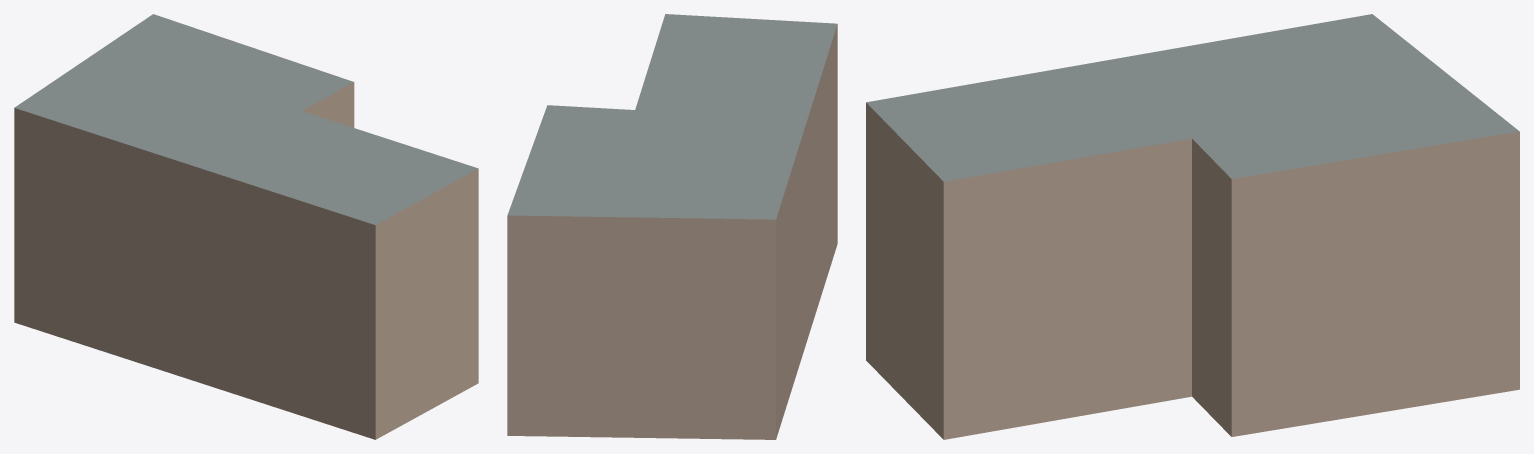
Rendered from context--2--2.gltf.
3 views of the same model, side by side, from view 1: azimuth 30°, elevation 25°; view 2: azimuth 150°, elevation 25°; view 3: azimuth 270°, elevation 25° (orthographic). The views are drawn at different scales.
Parts seen in each view (by area): view 1: context--2--2; view 2: context--2--2; view 3: context--2--2.
Part boxes in pixels (x1,y1,x2,y2): context--2--2: (14, 14, 478, 439); context--2--2: (507, 14, 837, 439); context--2--2: (866, 14, 1519, 439).
Size of the model in its own units: 25.71 by 18.43 by 42.32.
